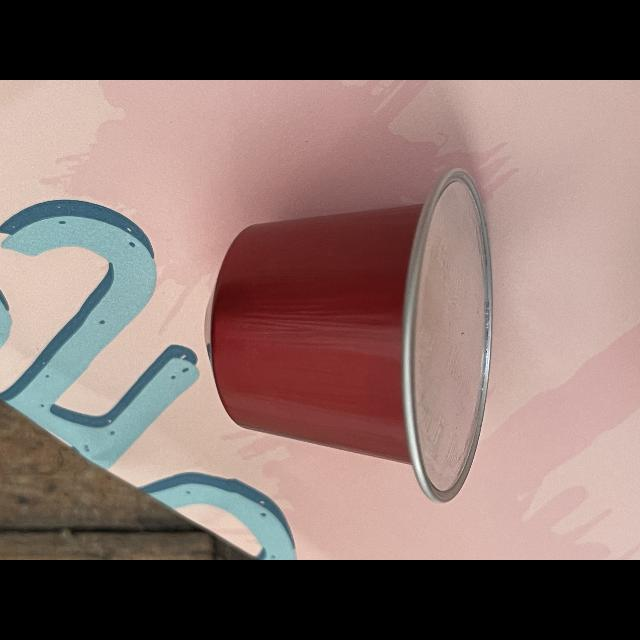intact_capsule: (195, 160, 515, 510)
